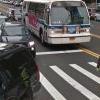Crosswalk: (41, 60, 100, 99)
